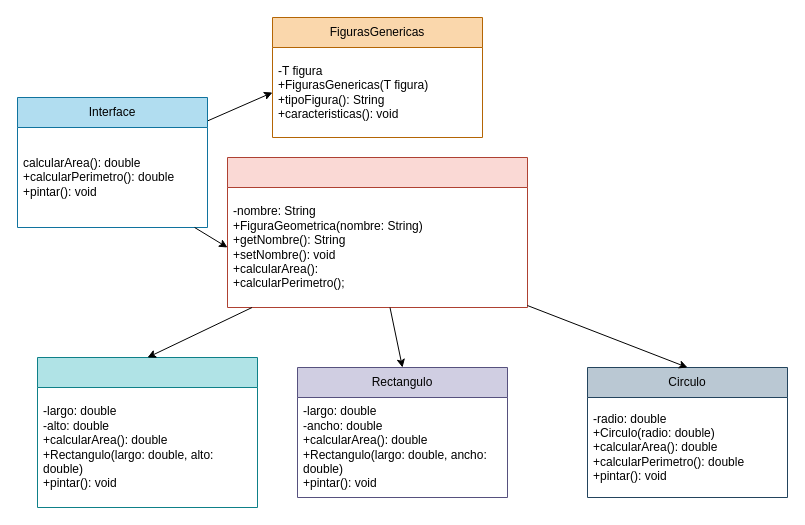
This 805x525 diagram has some shape labels left out. Each missing label, with the box of its shape:
Figuras: (226, 156, 528, 308)
Triangulo: (36, 356, 258, 508)
